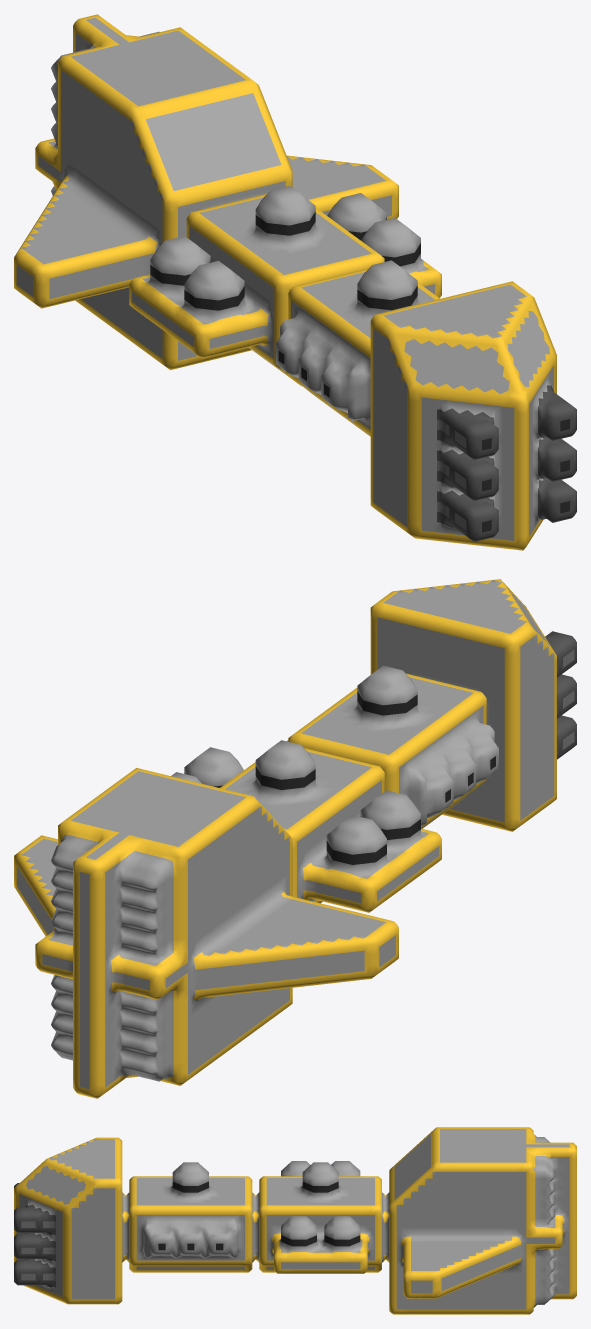
Rendered from mechyrdia-4-auctoritas-class.obj.
The picture shows the model from 3 angles, top to bottom: view 1: azimuth 30°, elevation 25°; view 2: azimuth 150°, elevation 25°; view 3: azimuth 270°, elevation 25°; orthographic projection. The views are drawn at different scales.
Bounding box in the file's own units: 37 × 23 × 78.
1 material, 1 textured.
